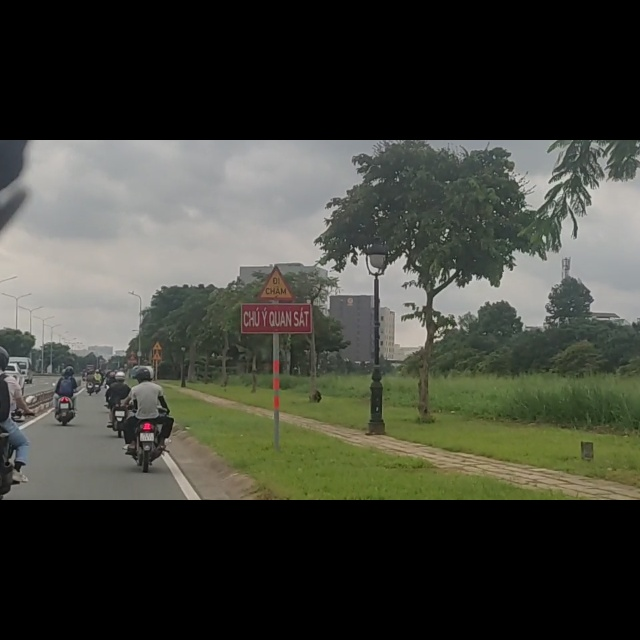bien_cam: (258, 222, 294, 284), (152, 354, 163, 372), (151, 376, 163, 391)
